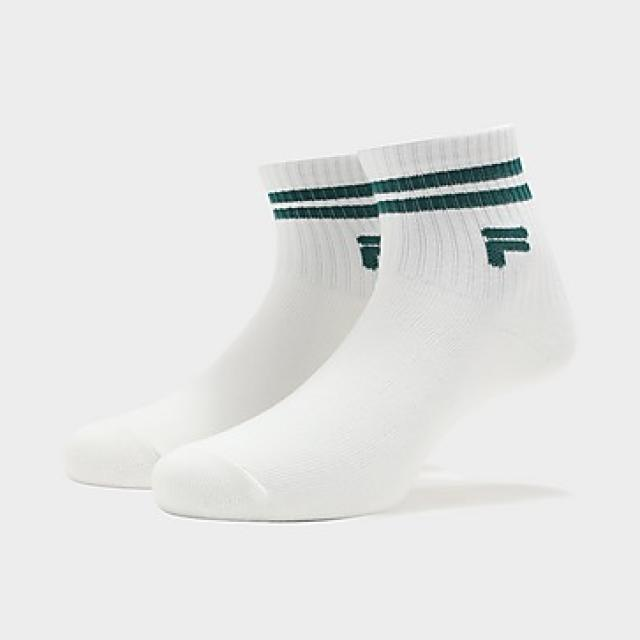sock: (148, 123, 575, 522)
